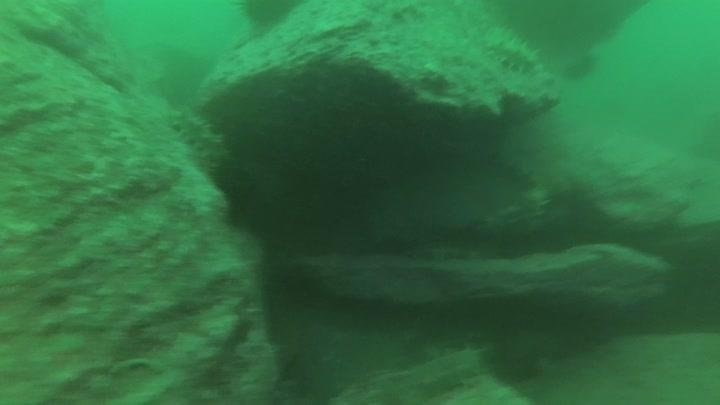echinus: (236, 1, 300, 32)
holothurian: (375, 341, 490, 404), (167, 103, 232, 170), (473, 186, 549, 240), (480, 22, 545, 77)
